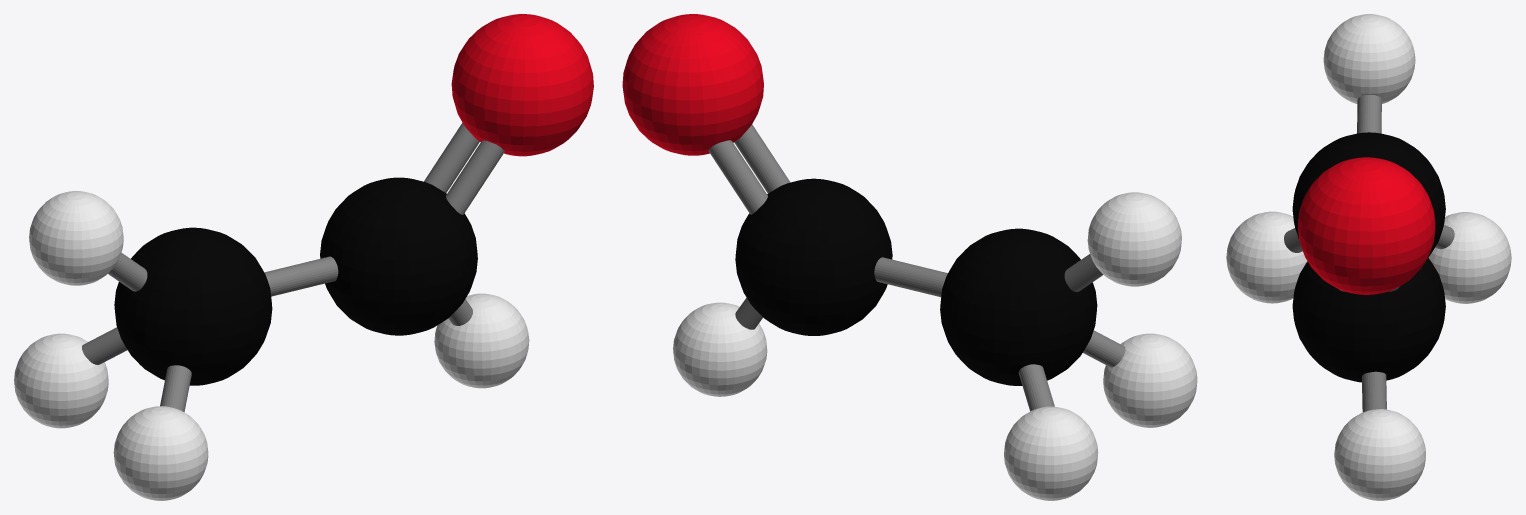
File: CH3CHO.glb
3 renders of one model, left to right at view 1: azimuth 30°, elevation 25°; view 2: azimuth 150°, elevation 25°; view 3: azimuth 270°, elevation 25°, orthographic. The views are drawn at different scales.
Parts seen in each view (by area): view 1: углерод 1, Sphere, кислород двойной.001, Sphere.003, Sphere.001, Sphere.002, Sphere.004, Cylinder.006, Cylinder.002, Cylinder.001, Cylinder.003, Cylinder.004 (+1 smaller); view 2: углерод 1, Sphere, кислород двойной.001, Sphere.003, Sphere.002, Sphere.001, Sphere.004, Cylinder.001, Cylinder.002, Cylinder.006, Cylinder.004, Cylinder.003 (+1 smaller); view 3: кислород двойной.001, углерод 1, Sphere.004, Sphere.003, Sphere.002, Sphere.001, Sphere, Cylinder.008, Cylinder.005.
Part boxes in pixels (x1=…): углерод 1: x1=320, y1=177, x2=477, y2=335; Sphere: x1=114, y1=227, x2=272, y2=385; кислород двойной.001: x1=451, y1=14, x2=593, y2=156; Sphere.003: x1=29, y1=191, x2=123, y2=285; Sphere.001: x1=113, y1=406, x2=208, y2=500; Sphere.002: x1=14, y1=333, x2=108, y2=428; Sphere.004: x1=434, y1=293, x2=529, y2=388; Cylinder.006: x1=445, y1=140, x2=504, y2=214; Cylinder.002: x1=264, y1=256, x2=338, y2=296; Cylinder.001: x1=424, y1=123, x2=479, y2=192; Cylinder.003: x1=160, y1=365, x2=191, y2=412; Cylinder.004: x1=82, y1=327, x2=127, y2=364; углерод 1: x1=735, y1=178, x2=892, y2=335; Sphere: x1=940, y1=228, x2=1097, y2=385; кислород двойной.001: x1=622, y1=14, x2=763, y2=155; Sphere.003: x1=1087, y1=192, x2=1181, y2=286; Sphere.002: x1=1004, y1=406, x2=1098, y2=500; Sphere.001: x1=1103, y1=333, x2=1197, y2=427; Sphere.004: x1=673, y1=302, x2=767, y2=396; Cylinder.001: x1=708, y1=140, x2=767, y2=214; Cylinder.002: x1=874, y1=257, x2=947, y2=297; Cylinder.006: x1=734, y1=124, x2=790, y2=193; Cylinder.004: x1=1018, y1=364, x2=1054, y2=411; Cylinder.003: x1=1083, y1=330, x2=1125, y2=367; кислород двойной.001: x1=1298, y1=157, x2=1435, y2=294; углерод 1: x1=1292, y1=257, x2=1445, y2=382; Sphere.004: x1=1334, y1=409, x2=1425, y2=500; Sphere.003: x1=1323, y1=14, x2=1415, y2=103; Sphere.002: x1=1428, y1=212, x2=1511, y2=303; Sphere.001: x1=1226, y1=211, x2=1307, y2=303; Sphere: x1=1292, y1=132, x2=1445, y2=257; Cylinder.008: x1=1361, y1=371, x2=1386, y2=412; Cylinder.005: x1=1357, y1=95, x2=1381, y2=133.
Bounding box in the file's own units: 3.99 × 2.51 × 1.86.
